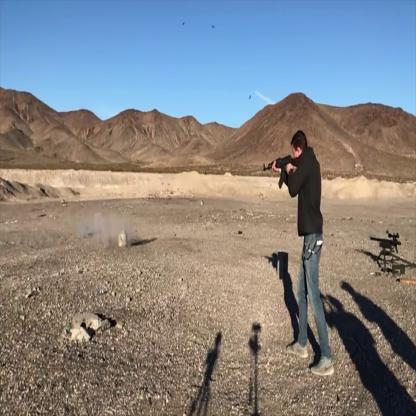long weapon: (358, 214, 405, 272), (255, 151, 305, 195)
